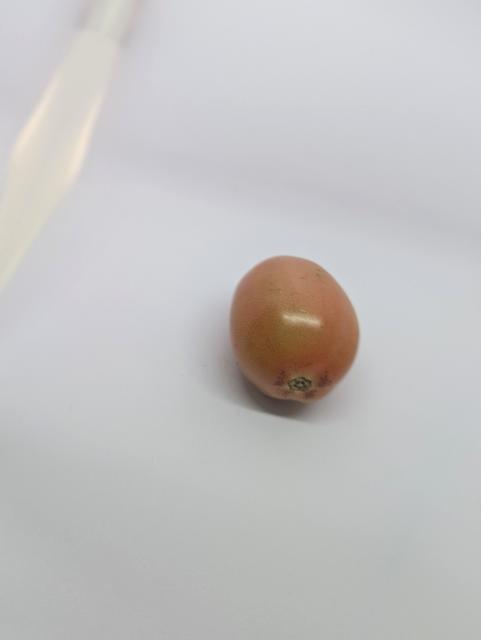turning: (226, 250, 365, 410)
